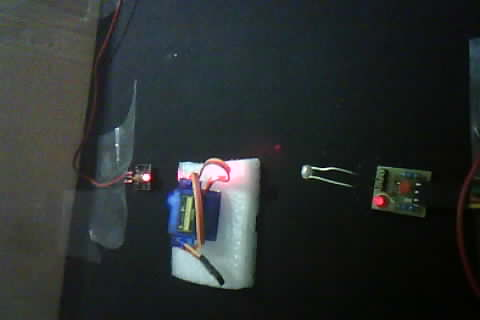motor: (161, 154, 257, 285)
